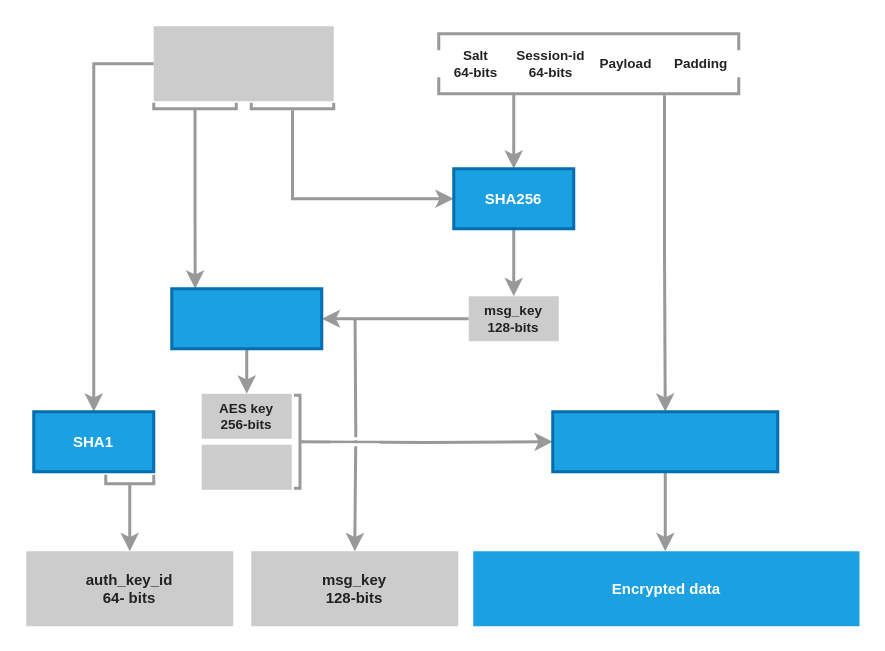
The diagram is 885 pixels wide and 651 high, and some of its shapes have lost their labels. The shapes that lost their labels are listed below. From the top down, each one's box as (x1, y1, x2, y2) in pixels, then its label:
(153, 26, 333, 100): Authorization key (persistent)
(170, 286, 322, 350): KDF SHA256
(550, 410, 778, 472): AES IGE encryption
(201, 444, 291, 489): AES IV 256-bits
